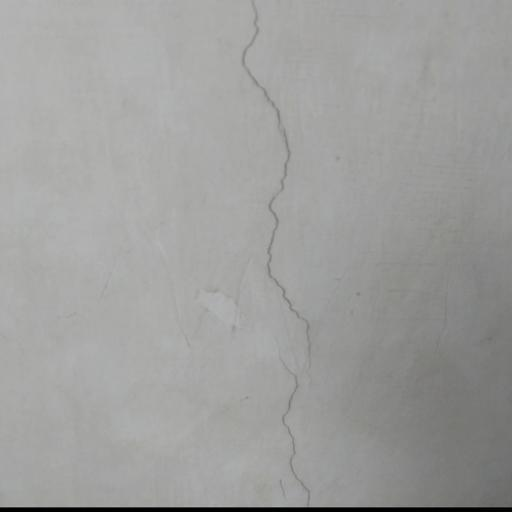minor_crack: (236, 0, 331, 512)
